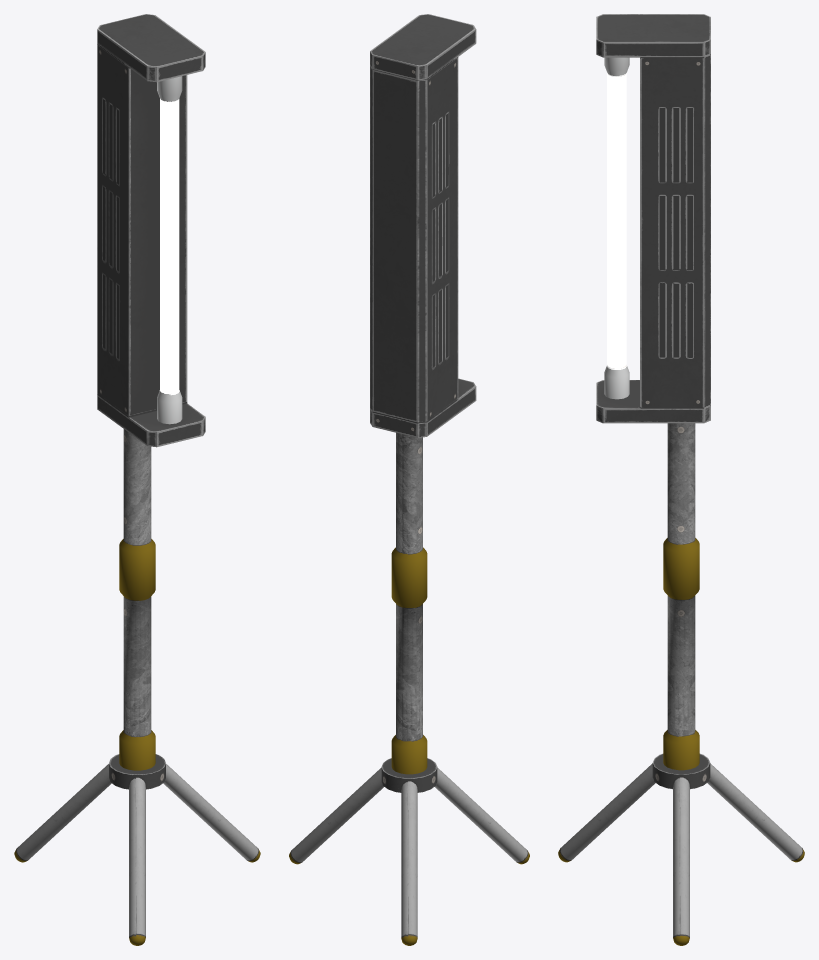
File: SM_Lamp_05.fbx
The picture shows the model from 3 angles, left to right: view 1: azimuth 30°, elevation 25°; view 2: azimuth 150°, elevation 25°; view 3: azimuth 270°, elevation 25°; orthographic projection. The views are drawn at different scales.
Parts seen in each view (by area): view 1: SM_Lamp_05; view 2: SM_Lamp_05; view 3: SM_Lamp_05.
Part boxes in pixels (x1,y1,x2,y2): SM_Lamp_05: (14, 14, 260, 945); SM_Lamp_05: (289, 14, 529, 945); SM_Lamp_05: (558, 14, 804, 945).
Size of the model in its own units: 38.53 by 44.08 by 170.
1 material, 1 textured.
